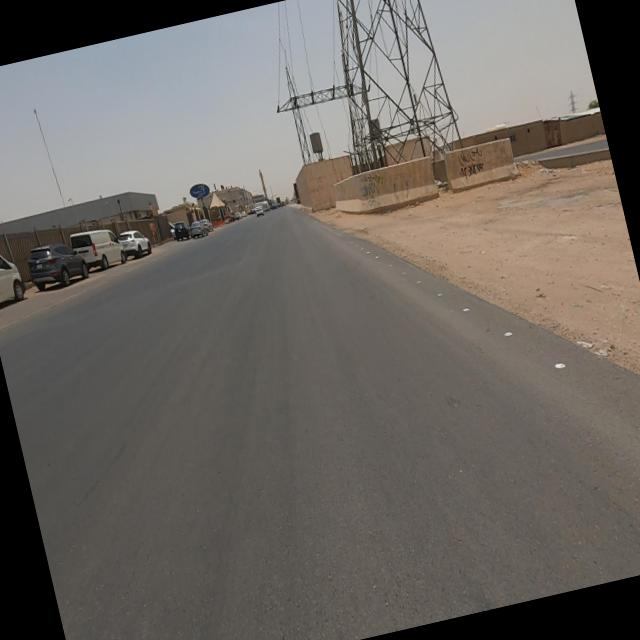Graffiti: (357, 171, 389, 211), (454, 145, 488, 181)
